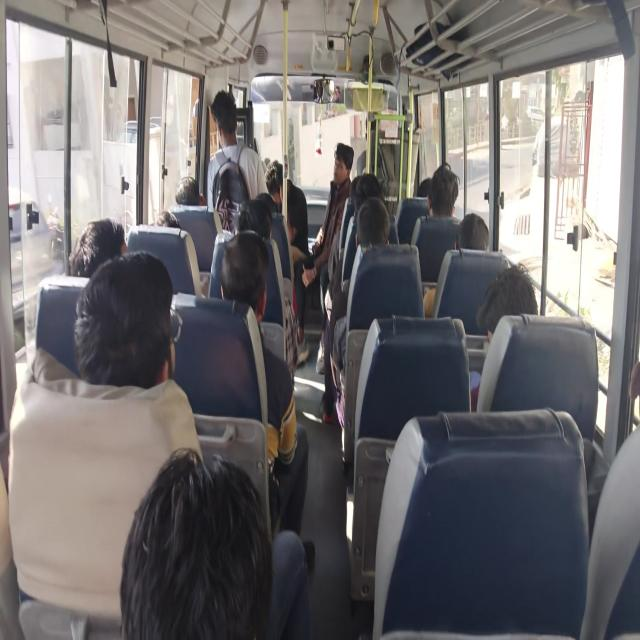person: (8, 249, 204, 637), (119, 446, 310, 639), (218, 229, 309, 538), (322, 196, 391, 422), (73, 249, 181, 388), (294, 142, 354, 362), (468, 262, 539, 412), (206, 89, 268, 212), (423, 212, 489, 317), (264, 159, 309, 263), (410, 163, 460, 245), (68, 216, 128, 278), (214, 161, 248, 234), (427, 163, 460, 219), (455, 212, 489, 250), (174, 176, 203, 206), (155, 210, 180, 228)
